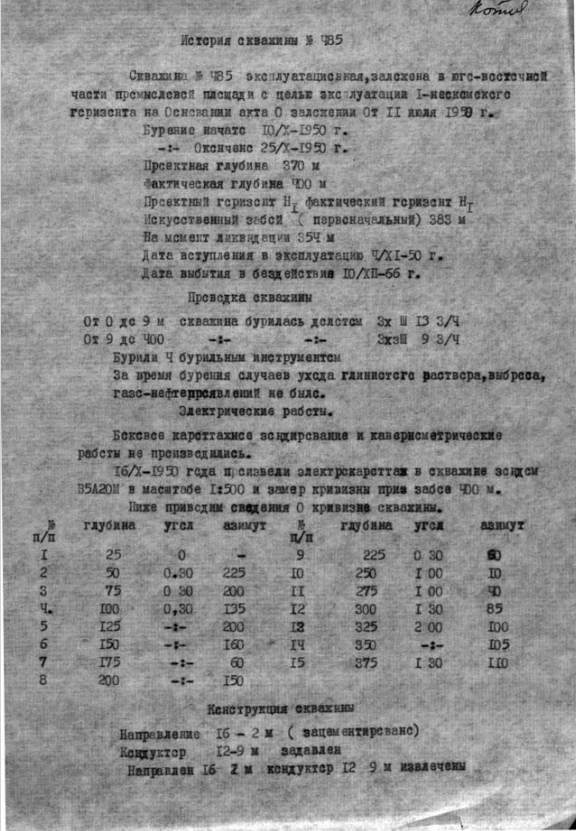Borderless: (24, 515, 525, 693)
